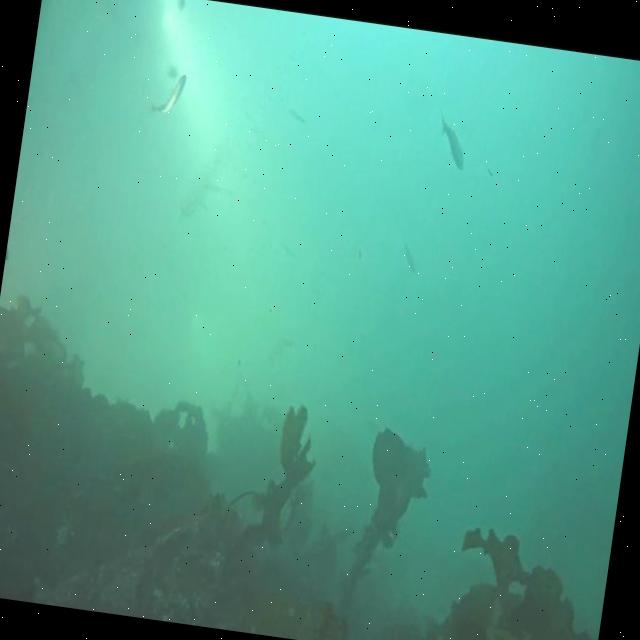fish: (431, 112, 474, 174), (153, 70, 187, 118)
